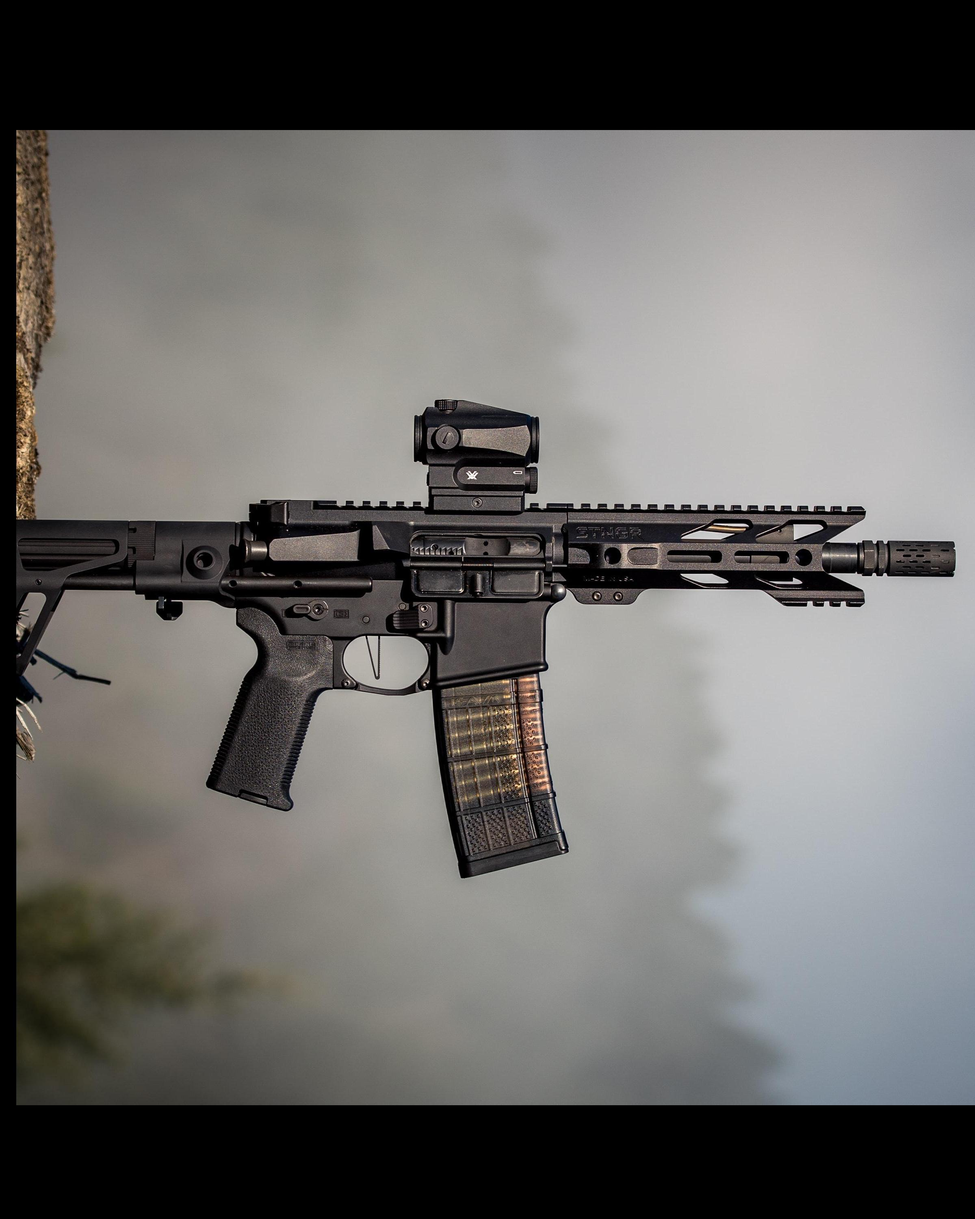larga: (15, 400, 961, 881)
